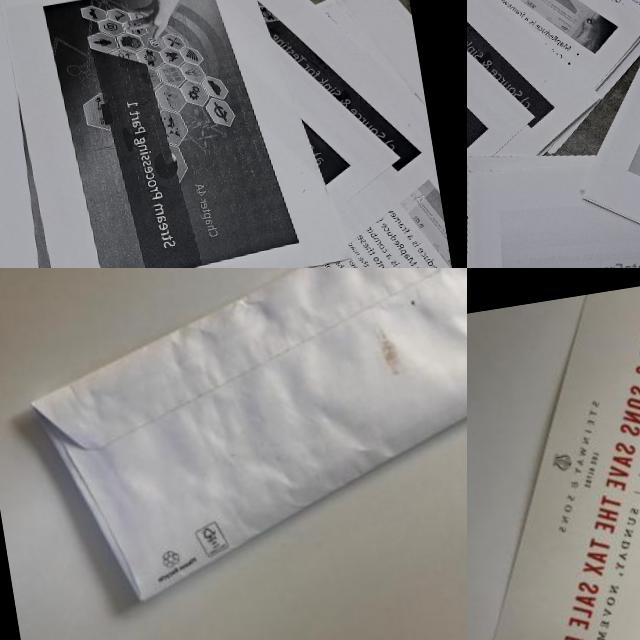papel: (8, 268, 467, 615), (0, 0, 467, 268), (467, 268, 640, 640), (467, 0, 640, 268)
